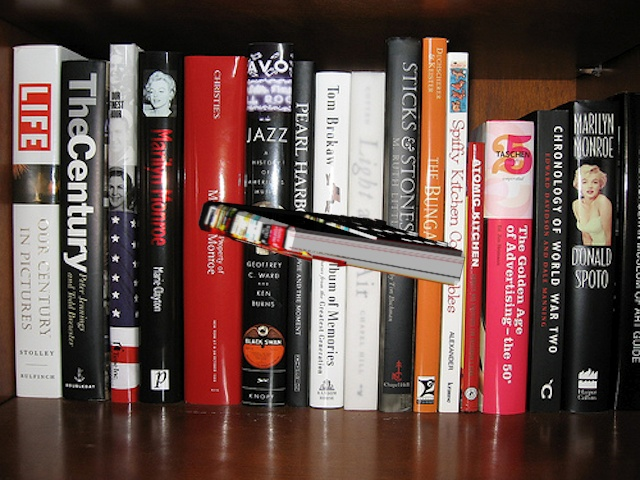mobile_phone: (193, 193, 472, 289)
